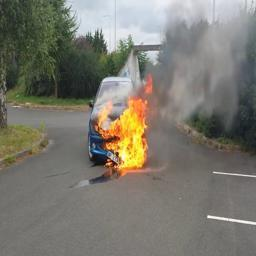fire: (97, 96, 151, 169)
